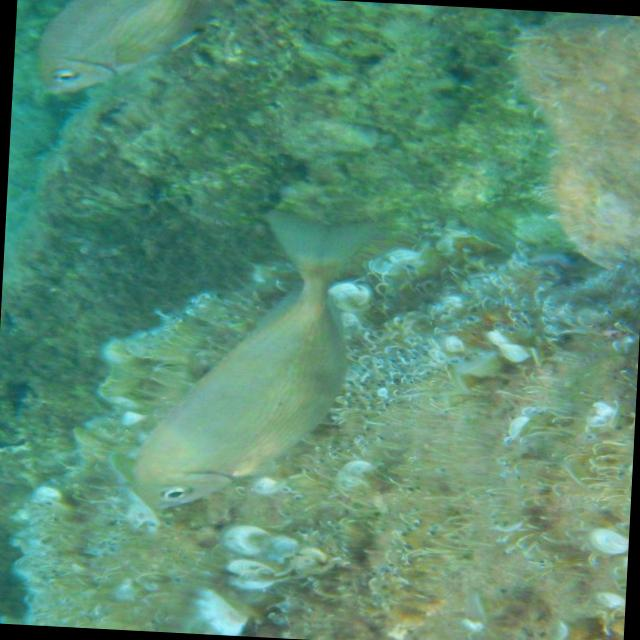Sokar Baligi: (102, 195, 393, 532)
